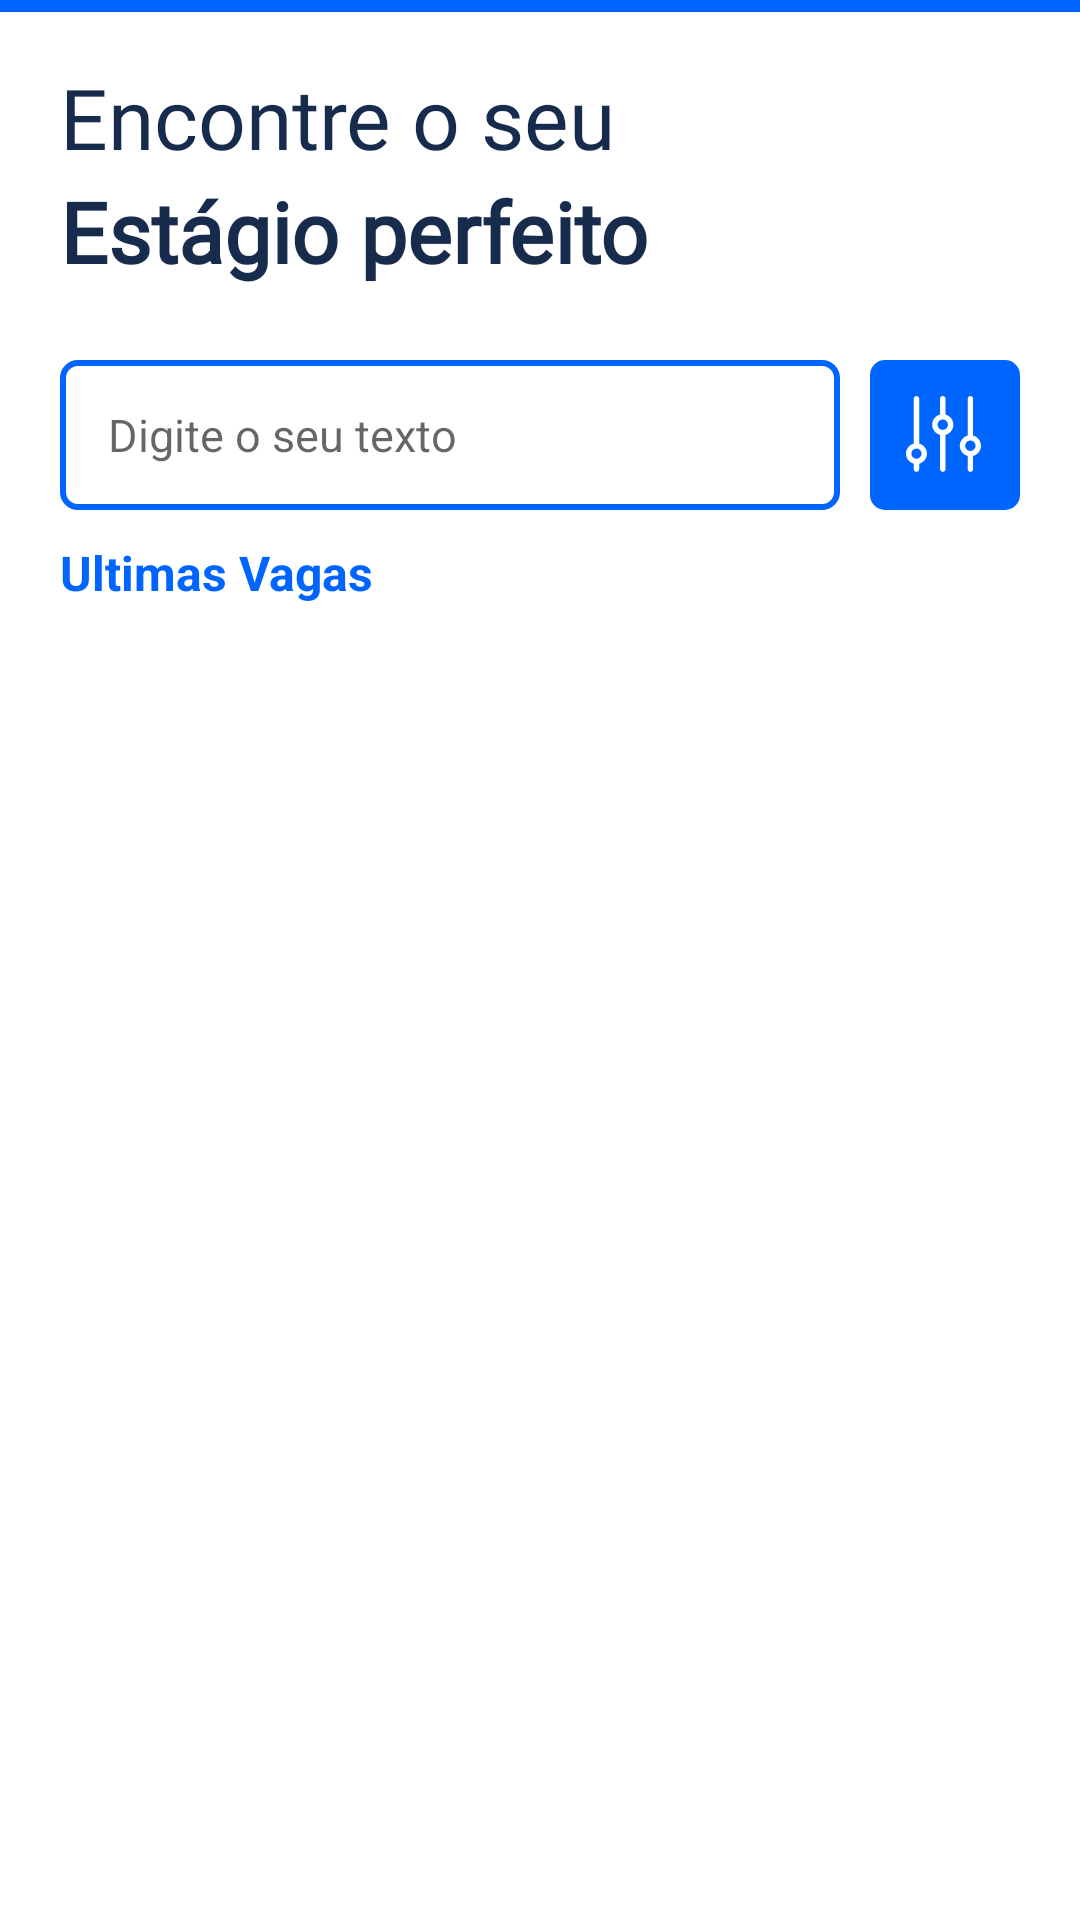

Point at icon controls on the screen. Image size 1080 × 1920, points as [x,y].
filtro: [945,435]
